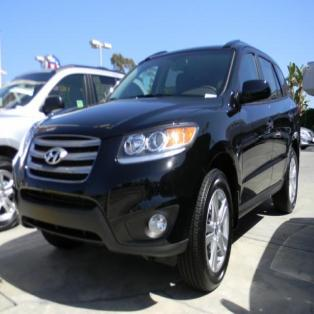Auto: (11, 32, 306, 302)
